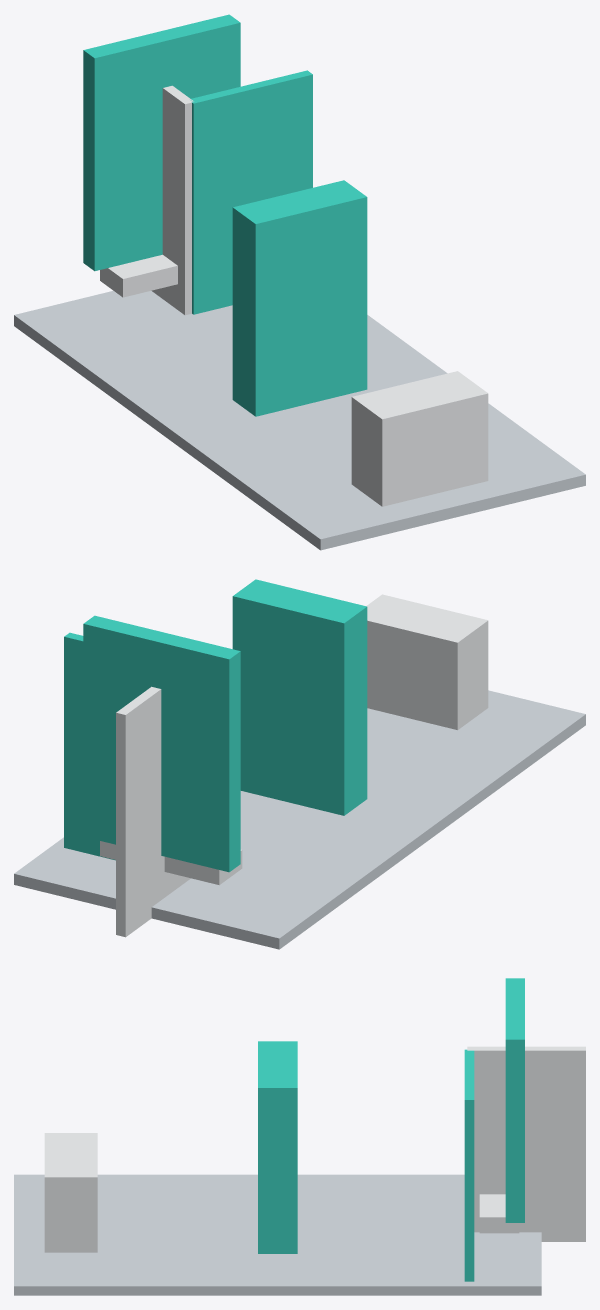
The picture shows the model from 3 angles, top to bottom: view 1: azimuth 30°, elevation 25°; view 2: azimuth 150°, elevation 25°; view 3: azimuth 270°, elevation 25°; orthographic projection. The views are drawn at different scales.
Visible parts, largest first — view 1: Exhibition Booth Concept; view 2: Exhibition Booth Concept; view 3: Exhibition Booth Concept.
Part boxes in pixels (box(x1,y1,x2,y2)): Exhibition Booth Concept: box(14, 14, 585, 550); Exhibition Booth Concept: box(14, 579, 585, 949); Exhibition Booth Concept: box(14, 978, 585, 1295).
Size of the model in its own units: 3 by 2.9 by 6.51.
